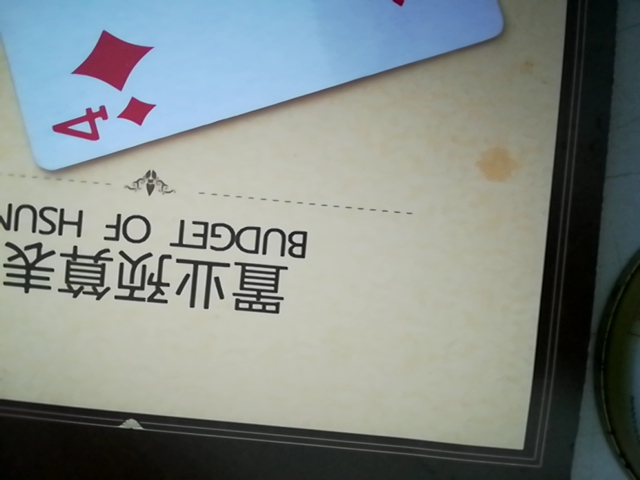fk 4: (0, 0, 528, 173)
